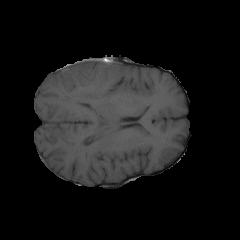glioma: (73, 58, 114, 104)
